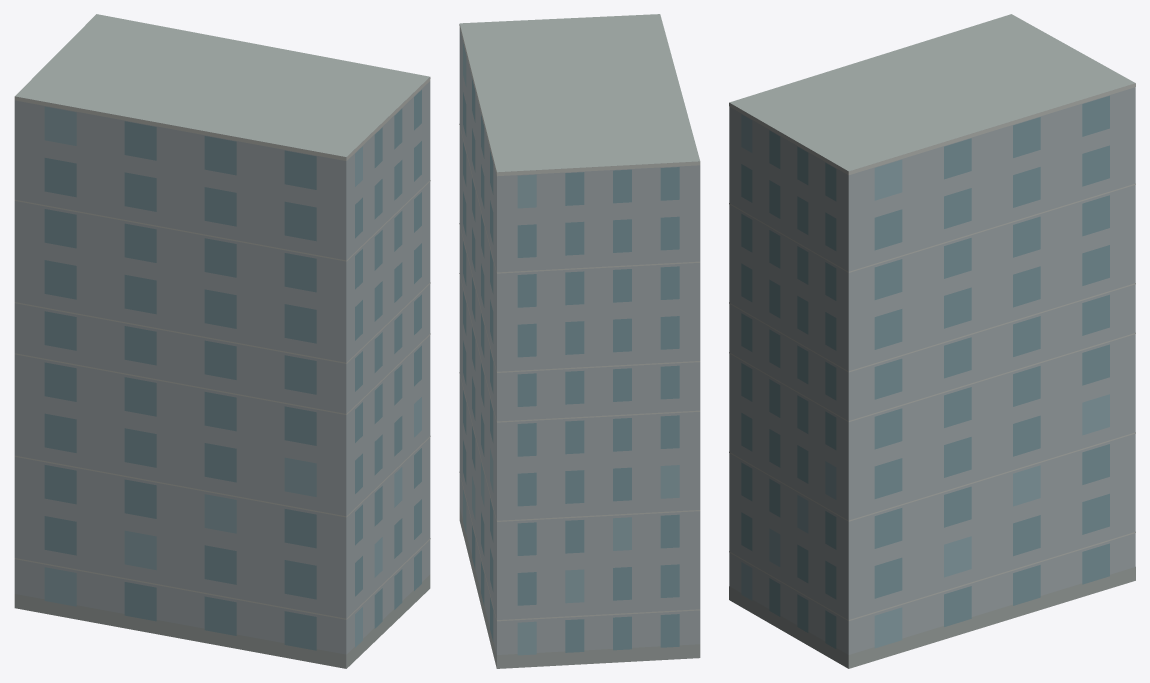
File: survey-upis-32929160.glb
3 views of the same model, side by side, from view 1: azimuth 30°, elevation 25°; view 2: azimuth 150°, elevation 25°; view 3: azimuth 270°, elevation 25° (orthographic). The views are drawn at different scales.
Visible parts, largest first — view 1: survey-upis-32929160.tmp; view 2: survey-upis-32929160.tmp; view 3: survey-upis-32929160.tmp.
Part boxes in pixels (x1,y1,x2,y2): survey-upis-32929160.tmp: [14, 14, 430, 668]; survey-upis-32929160.tmp: [459, 14, 700, 668]; survey-upis-32929160.tmp: [729, 14, 1135, 668].
Bounding box in the file's own units: 20.71 × 30.5 × 22.61.
